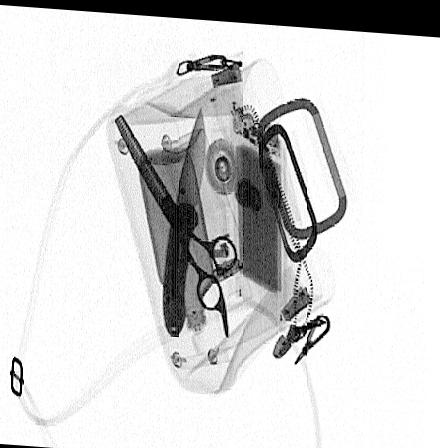Knife: (161, 100, 208, 335)
Powerbank: (231, 123, 286, 323)
Scissors: (112, 108, 238, 336)
Sprayer: (163, 122, 254, 306)
